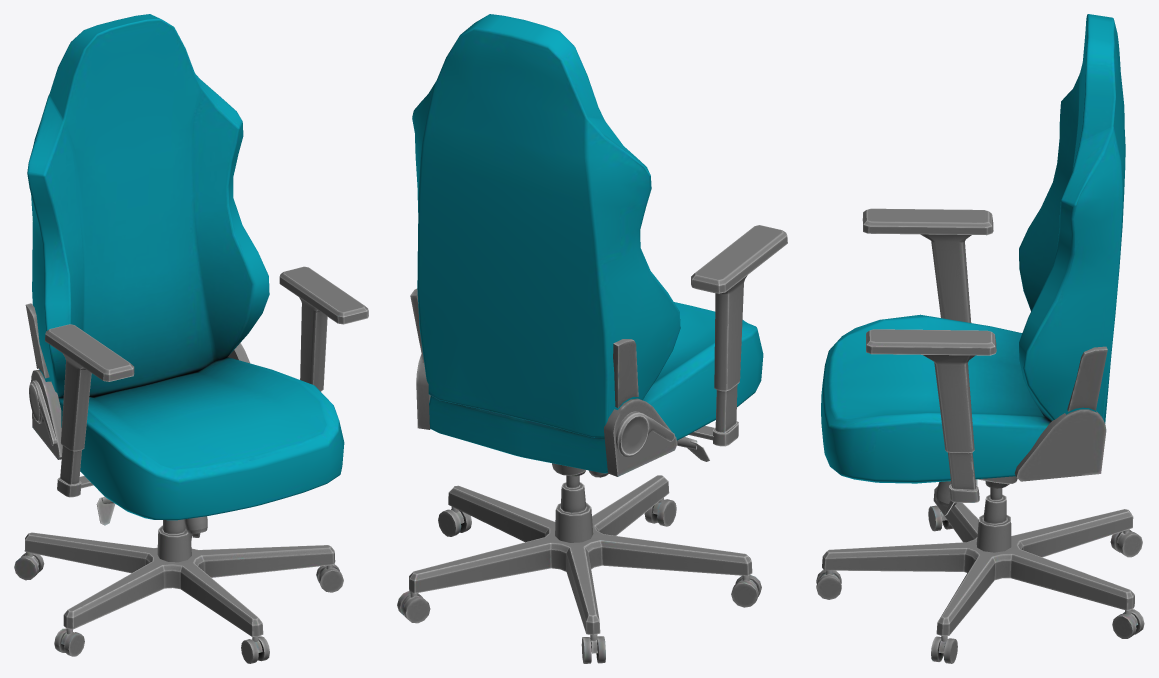
Rendered from gamer_chair.glb.
The picture shows the model from 3 angles, left to right: view 1: azimuth 30°, elevation 25°; view 2: azimuth 150°, elevation 25°; view 3: azimuth 270°, elevation 25°; orthographic projection. The views are drawn at different scales.
Visible parts, largest first — view 1: gamer_chair_export; view 2: gamer_chair_export; view 3: gamer_chair_export.
Boxes of the visible parts, left/top/right/bottom form: gamer_chair_export: left=14, top=14, right=368, bottom=663; gamer_chair_export: left=397, top=14, right=787, bottom=663; gamer_chair_export: left=816, top=14, right=1144, bottom=663.
Bounding box in the file's own units: 0.5228 × 0.9514 × 0.4985.
1 material, 1 textured.
